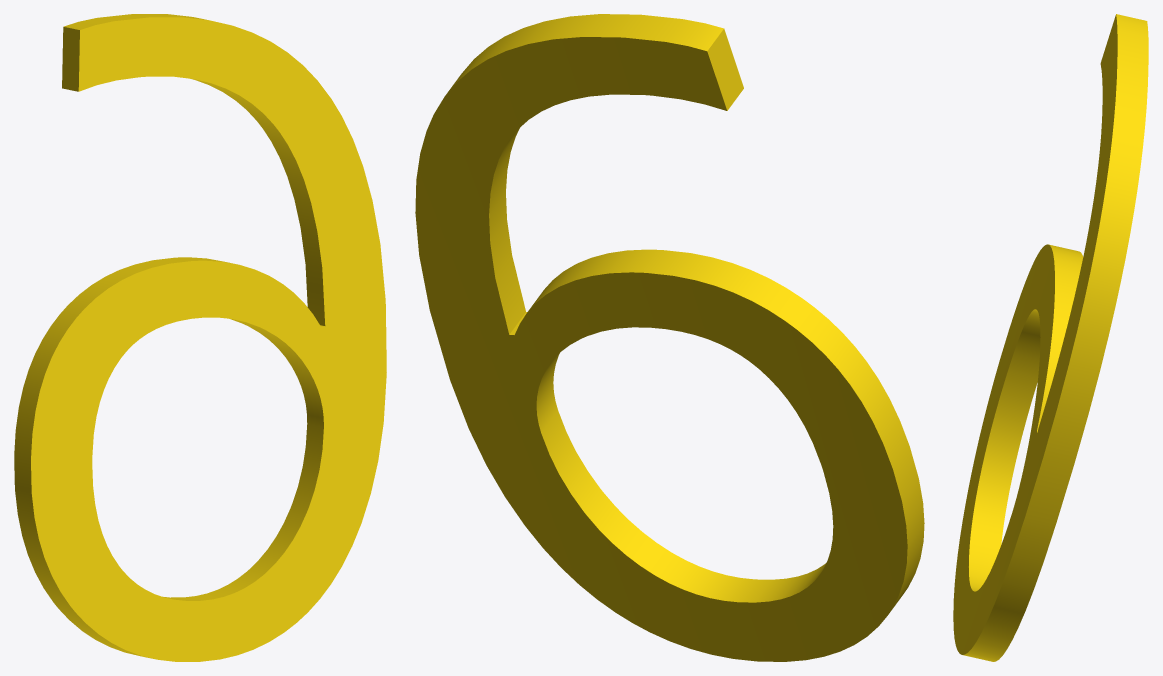
Rendered from Number_9.gltf.
The picture shows the model from 3 angles, left to right: view 1: azimuth 30°, elevation 25°; view 2: azimuth 150°, elevation 25°; view 3: azimuth 270°, elevation 25°; orthographic projection. The views are drawn at different scales.
Parts seen in each view (by area): view 1: Sub_6_Cell_3_3_Number_9; view 2: Sub_6_Cell_3_3_Number_9; view 3: Sub_6_Cell_3_3_Number_9.
Boxes of the visible parts, x1=… form: Sub_6_Cell_3_3_Number_9: x1=14, y1=14, x2=386, y2=661; Sub_6_Cell_3_3_Number_9: x1=415, y1=14, x2=924, y2=661; Sub_6_Cell_3_3_Number_9: x1=953, y1=14, x2=1148, y2=661.
Size of the model in its own units: 0.0173 by 0.0259 by 0.00771.
